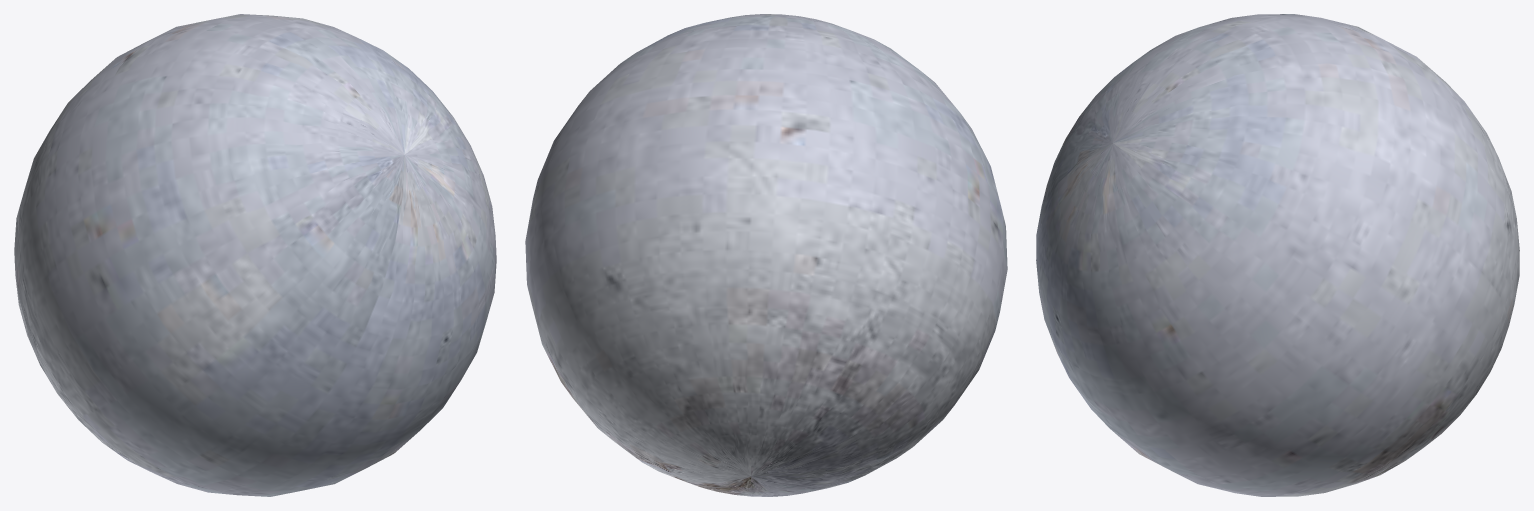
Rendered from CannonBall.gltf.
3 renders of one model, left to right at view 1: azimuth 30°, elevation 25°; view 2: azimuth 150°, elevation 25°; view 3: azimuth 270°, elevation 25°, orthographic.
Parts seen in each view (by area): view 1: CannonBall; view 2: CannonBall; view 3: CannonBall.
Boxes of the visible parts, x1,y1,x2,y2 form: CannonBall: (14, 14, 496, 496); CannonBall: (525, 14, 1007, 496); CannonBall: (1036, 14, 1519, 496).
Bounding box in the file's own units: 1.99 × 1.99 × 1.99.
Materials: 1 (1 with a texture image).
